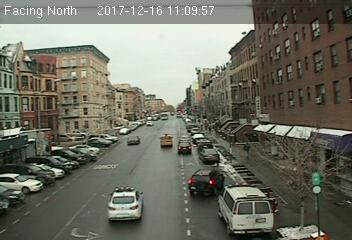car: (187, 168, 226, 196), (200, 148, 219, 163), (159, 134, 173, 147), (178, 142, 191, 154), (127, 135, 141, 145)
police: (217, 182, 275, 234), (107, 186, 146, 222)
